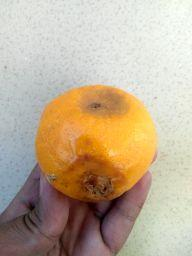Unripe: (33, 82, 156, 203)
